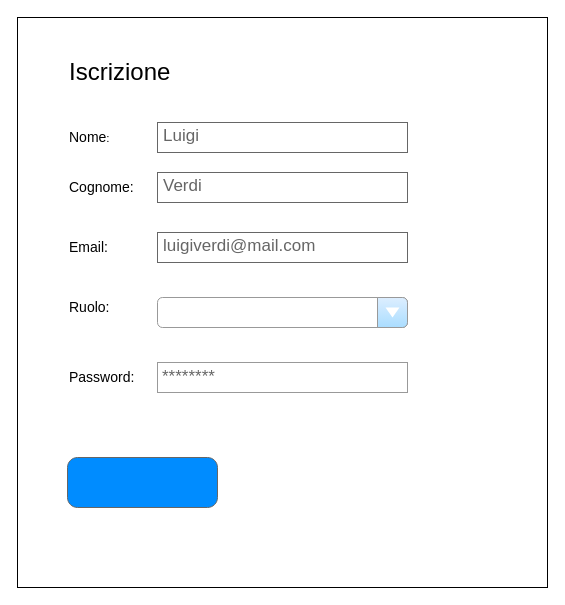
The diagram is 565 pixels wide and 605 high, and some of its shapes have lost their labels. Here are the shapes that lost their labels. From the top down, the centre of each, then its label:
pixel 282 312: Allenatore
pixel 142 482: Iscrivimi
